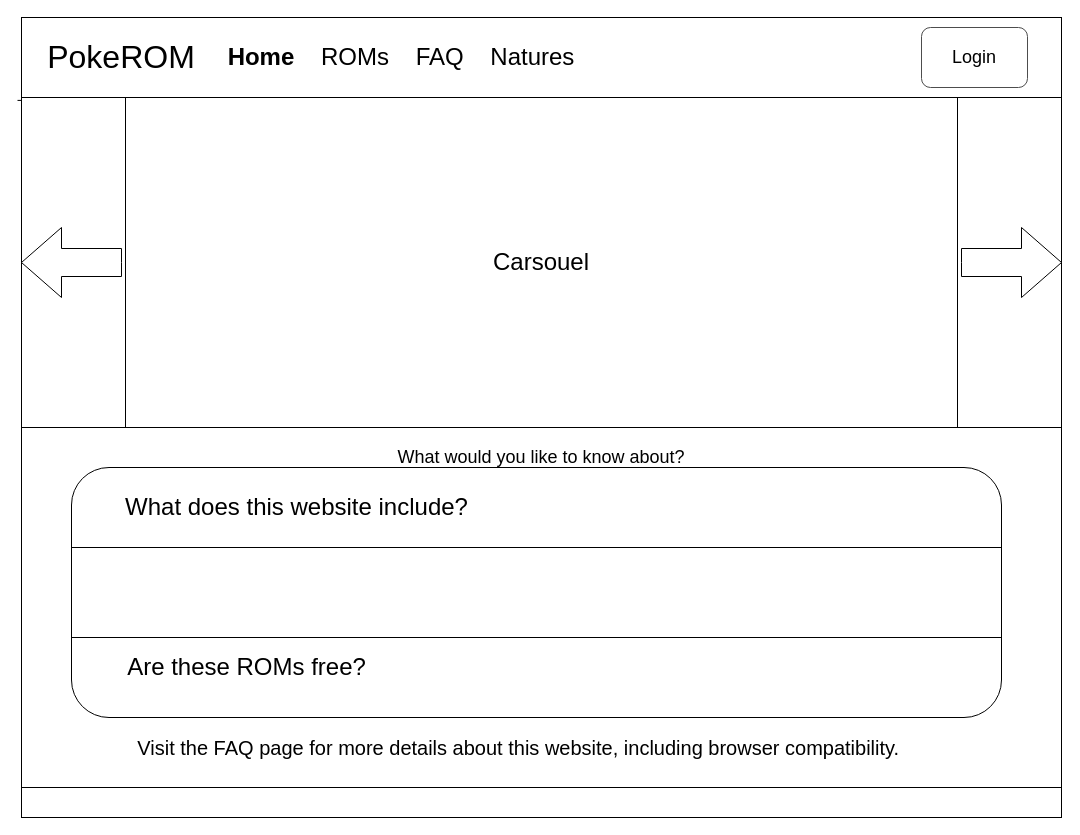
Some shapes in this 1080 by 835 pixel diagram are drawn without their labels. Here are the shapes that lost their labels. From the top down, the centre of each, then its label:
At pixel 536 592: "Where did I get these ROMs?".
At pixel 541 802: "Footer".
